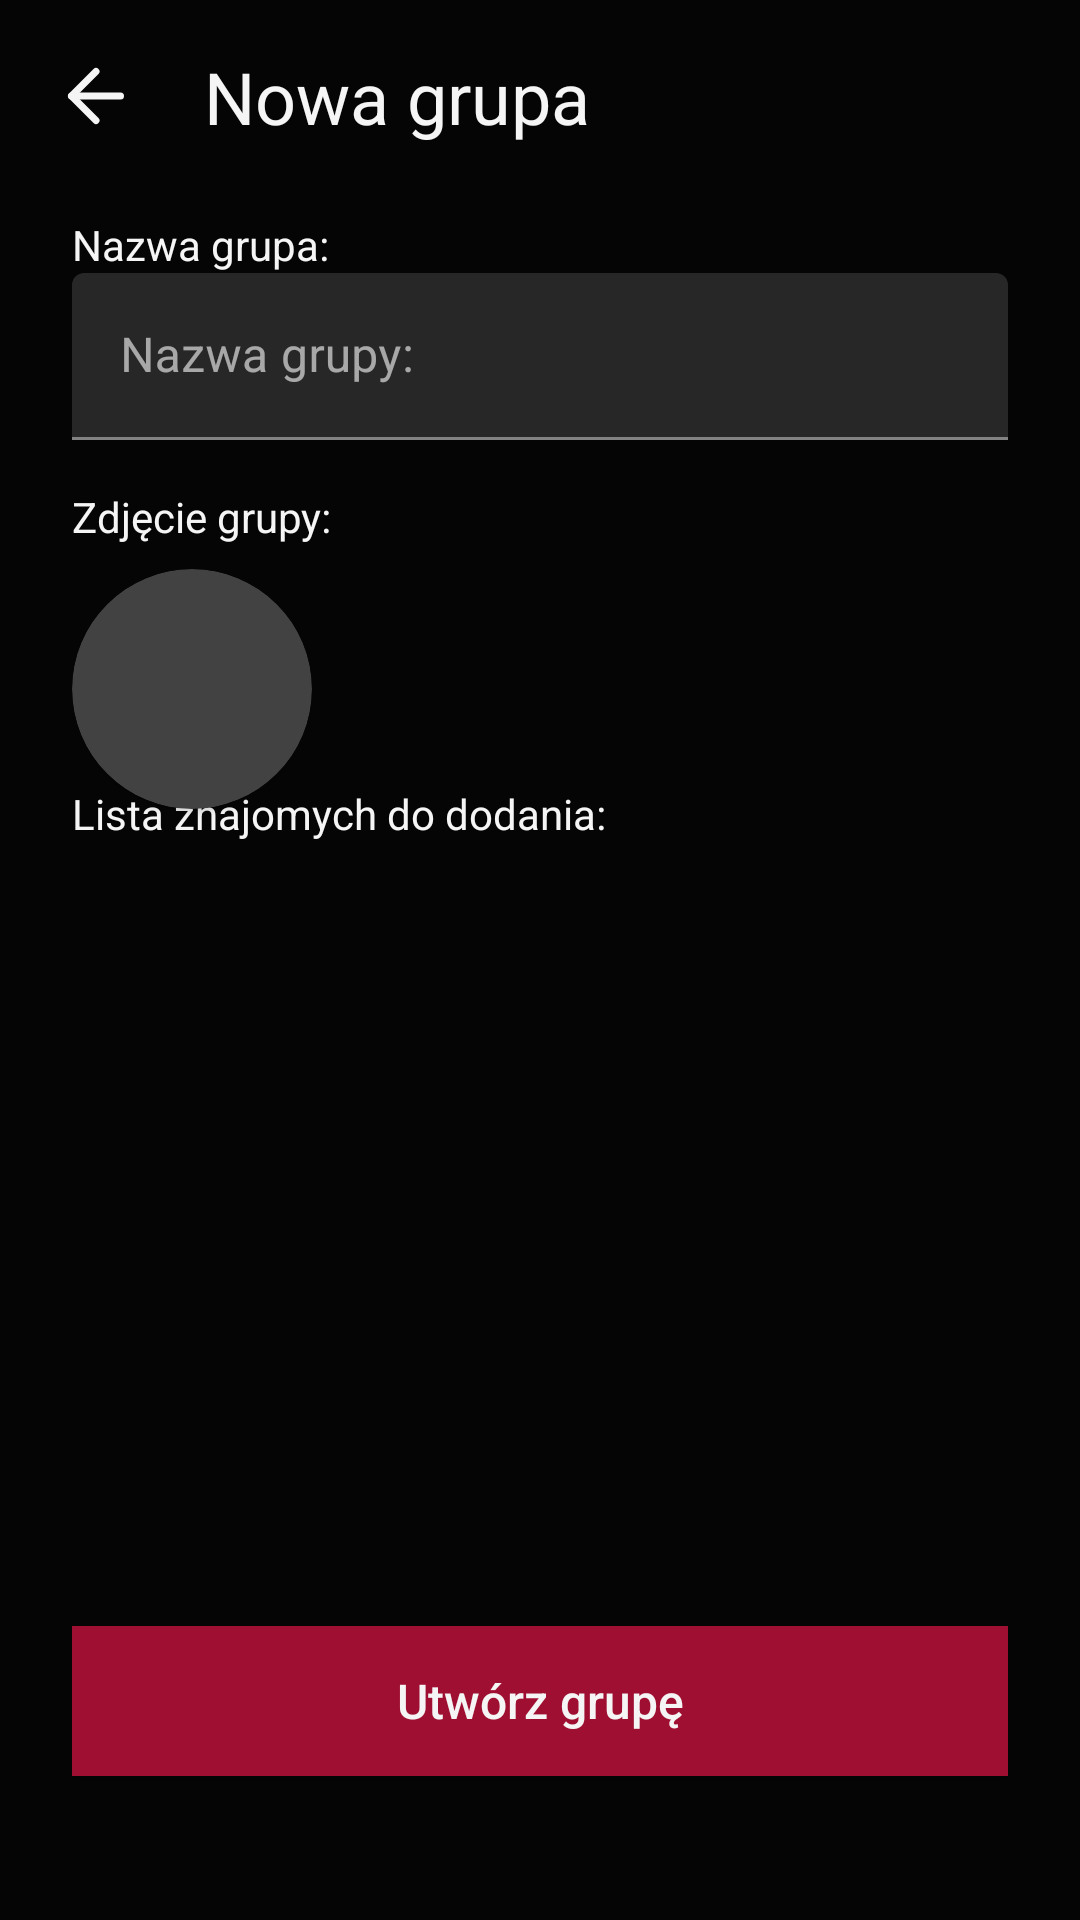

Point at icon controls on the screen. Image size 1080w x 1920h, points as (x=x, y=y).
Go Back: (x=96, y=96)
